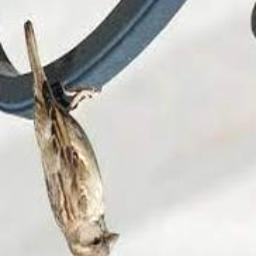Sparrow: (23, 21, 118, 256)
